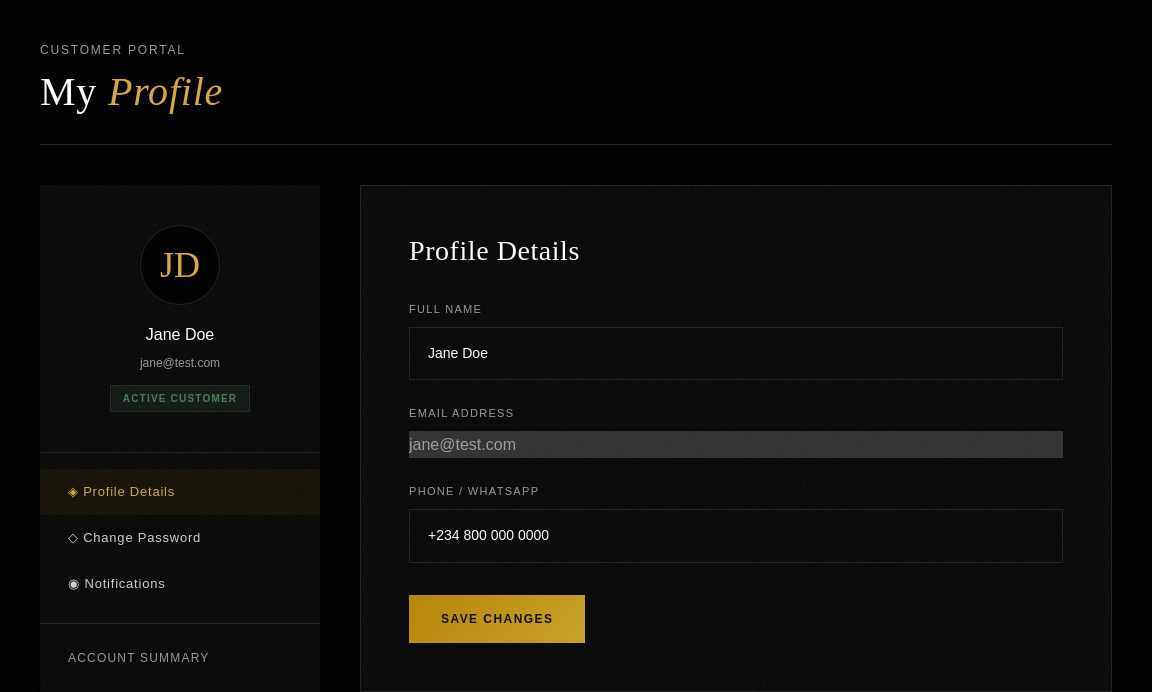
ProfilePageContent › shows password mismatch error
Click the button "◇ Change Password" at (180, 538), box x1=40 y1=515 x2=320 y2=561
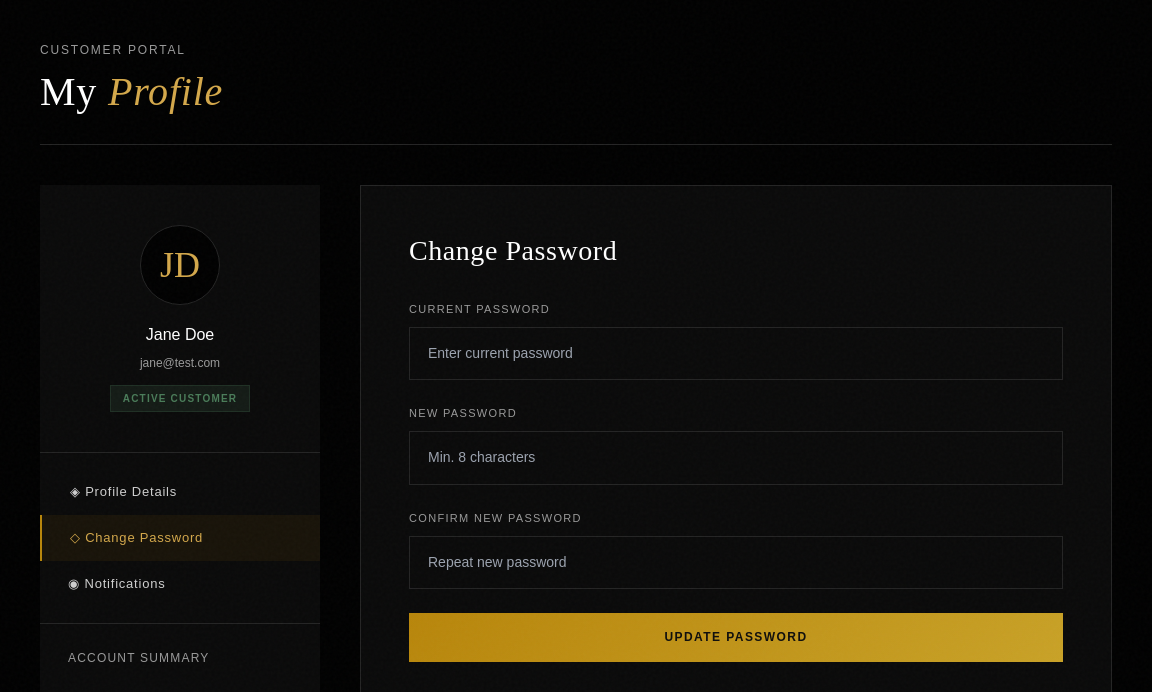
Type "oldpass" into the password field with placeholder "Enter current password" at (736, 354), box x1=409 y1=327 x2=1063 y2=380
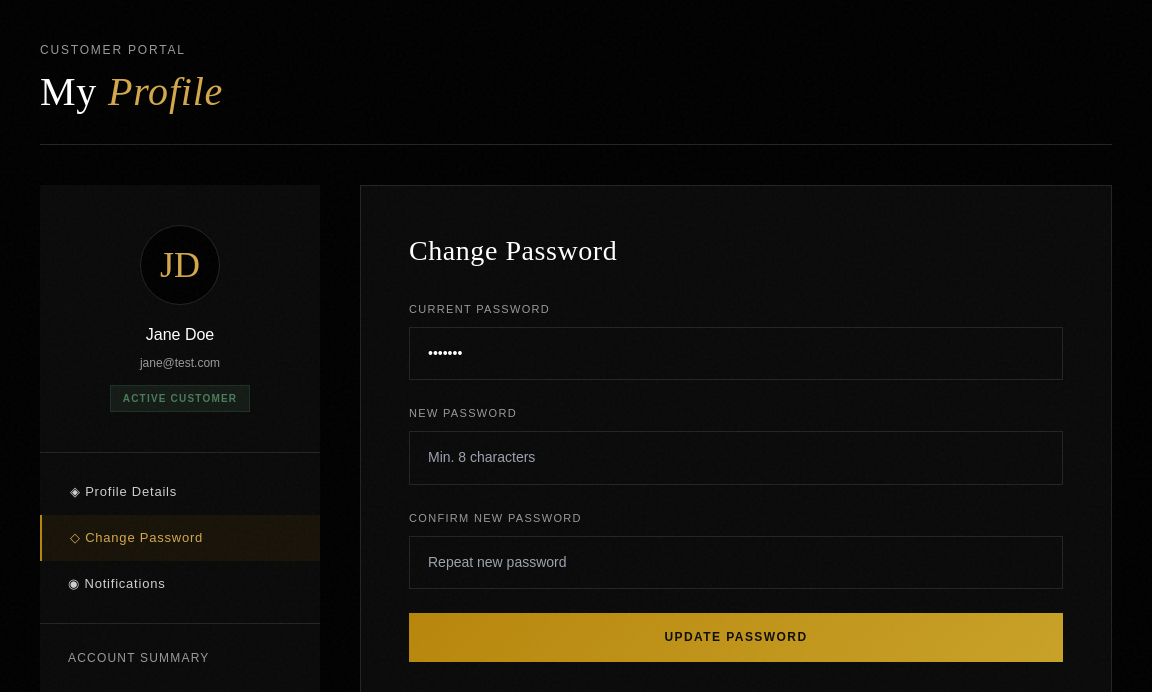
Type "newpass1" into the password field with placeholder "Min. 8 characters" at (736, 458), box x1=409 y1=431 x2=1063 y2=485
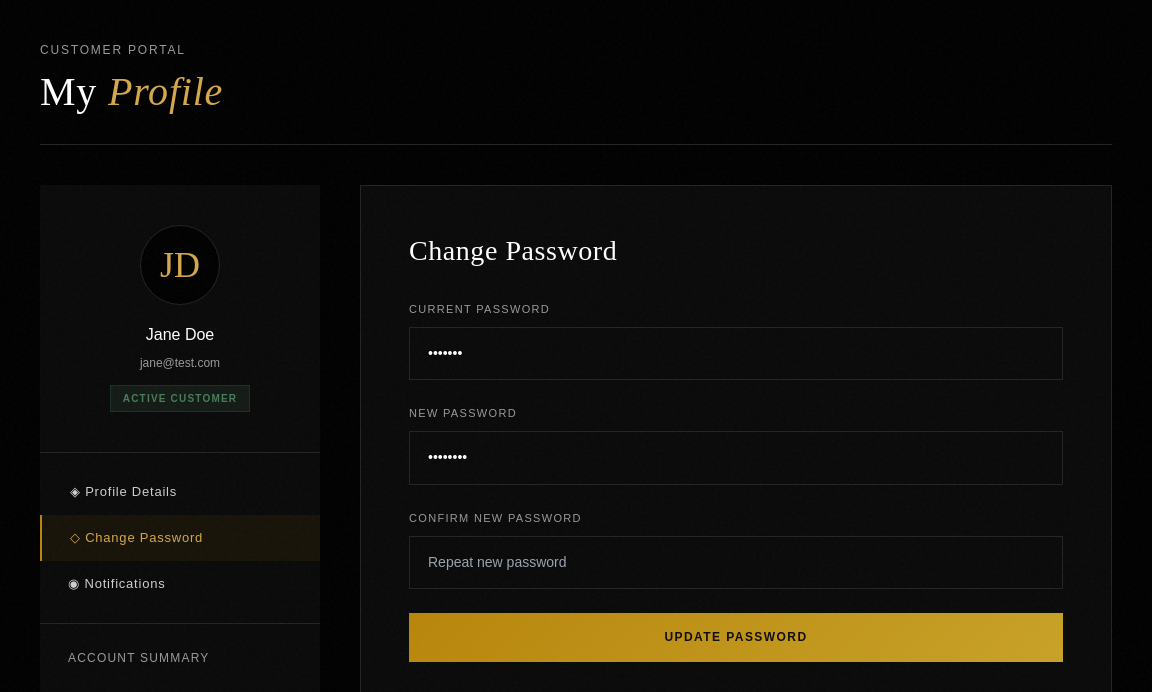
Type "different" into the password field with placeholder "Repeat new password" at (736, 562), box x1=409 y1=536 x2=1063 y2=589
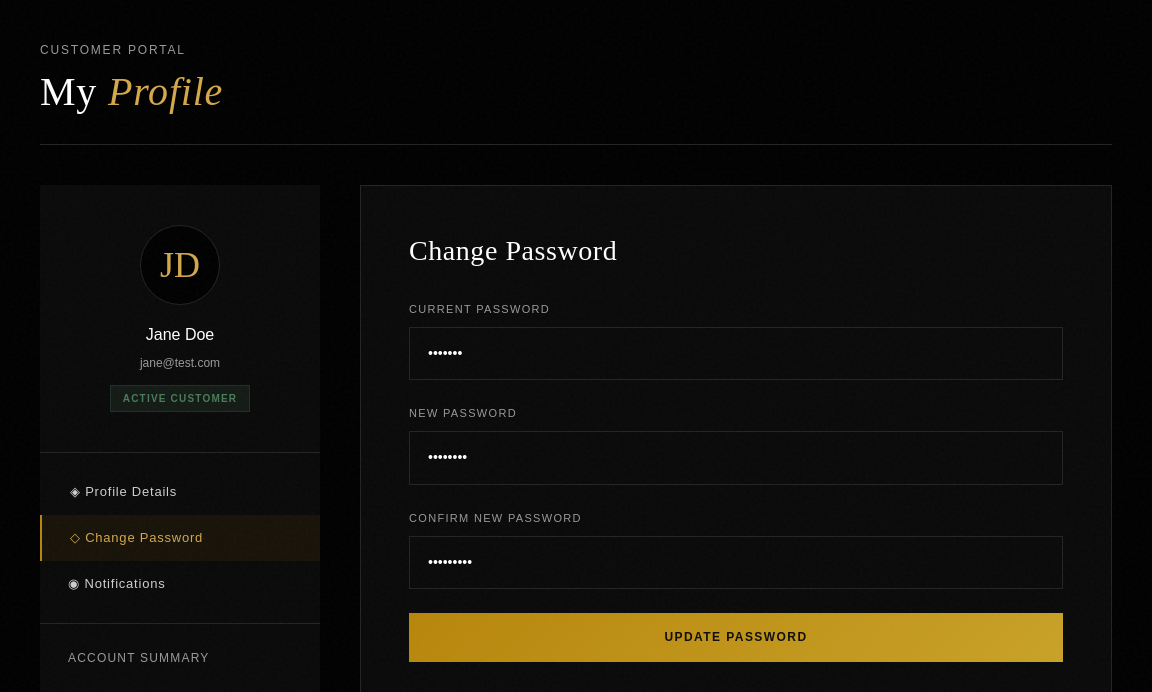
Click the button "Update Password" at (736, 638), box x1=409 y1=613 x2=1063 y2=662
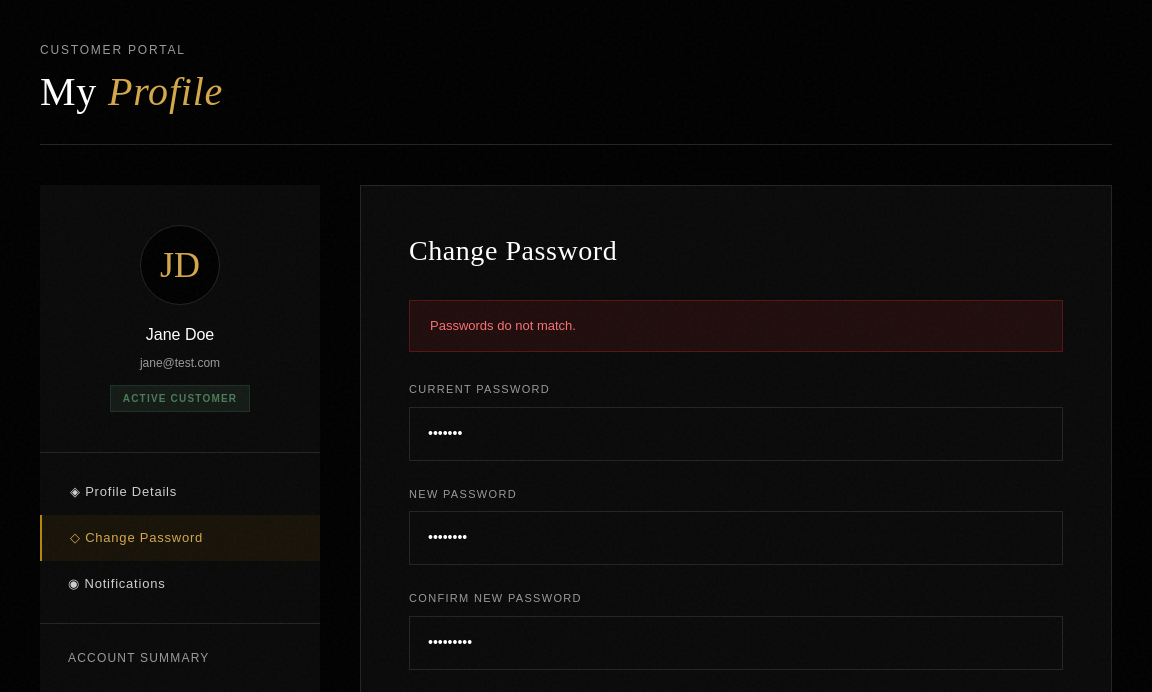
Check: the text "Passwords do not match." is shown, box x1=409 y1=300 x2=1063 y2=352
